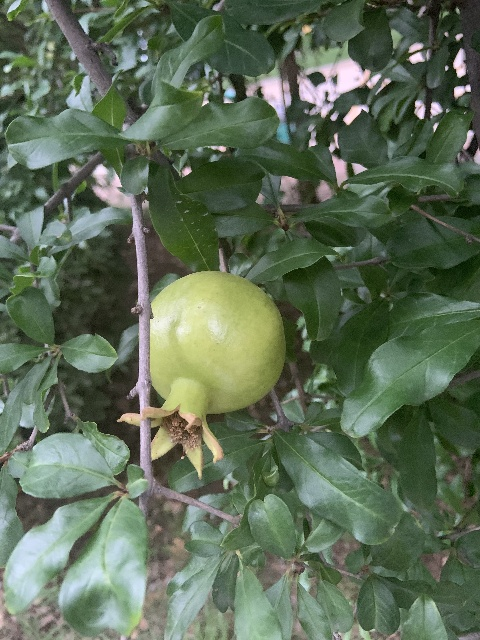mid-growth: (114, 270, 286, 479)
